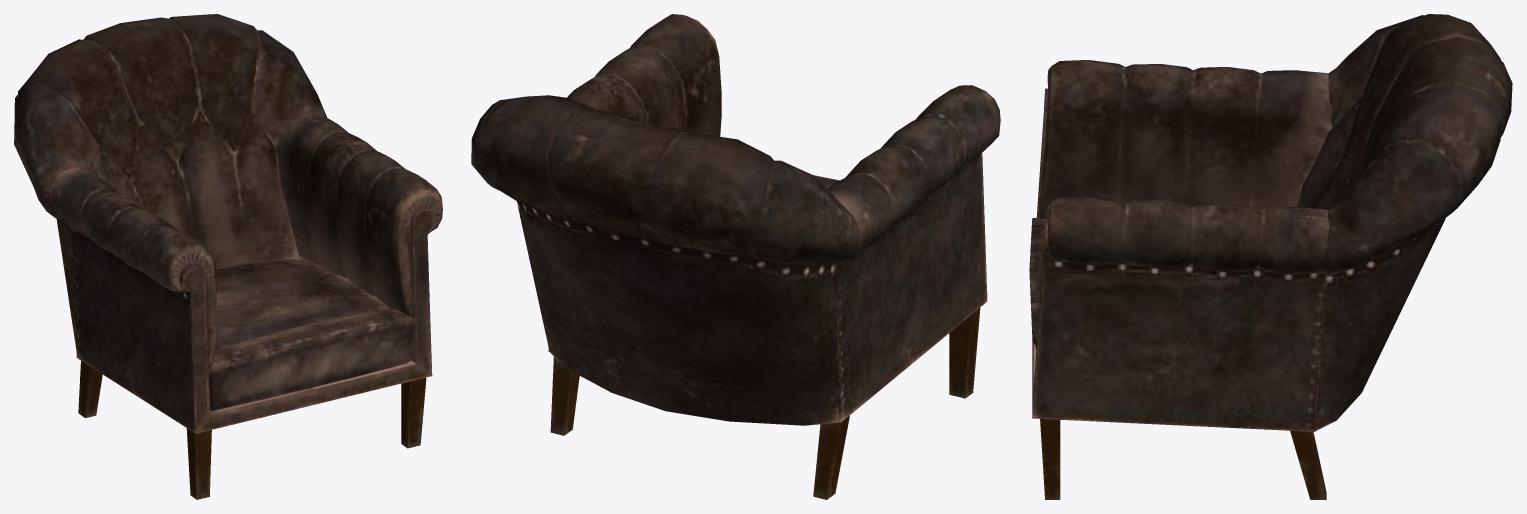
The model's file is armchair.glb.
3 views of the same model, side by side, from view 1: azimuth 30°, elevation 25°; view 2: azimuth 150°, elevation 25°; view 3: azimuth 270°, elevation 25° (orthographic). The views are drawn at different scales.
Parts seen in each view (by area): view 1: Object_2; view 2: Object_2; view 3: Object_2.
Boxes of the visible parts, box(x1,y1,x2,y2) form: Object_2: box(14, 14, 442, 499); Object_2: box(471, 14, 1000, 499); Object_2: box(1029, 14, 1512, 499).
Bounding box in the file's own units: 1.15 × 1.21 × 1.41.
Materials: 1 (1 with a texture image).
